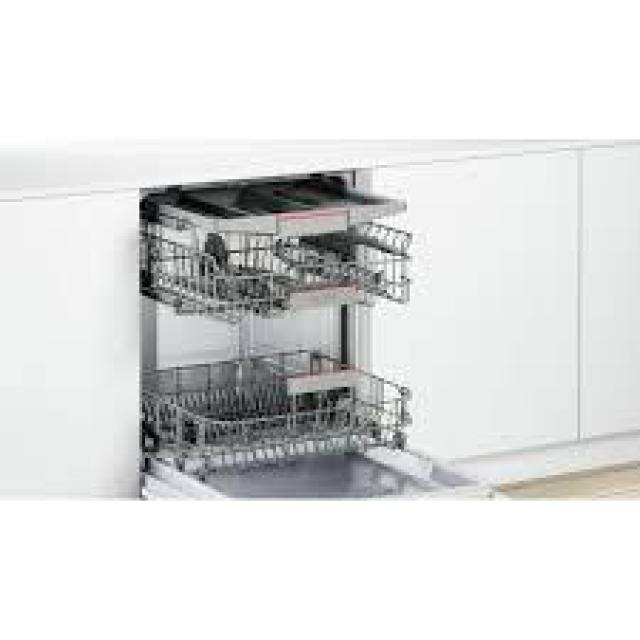dishwasher: (125, 159, 526, 509)
